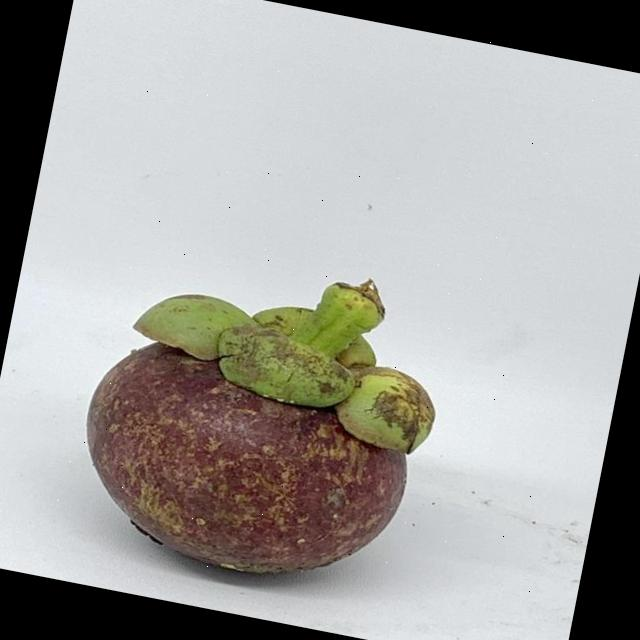mangosteen: (44, 194, 478, 638)
